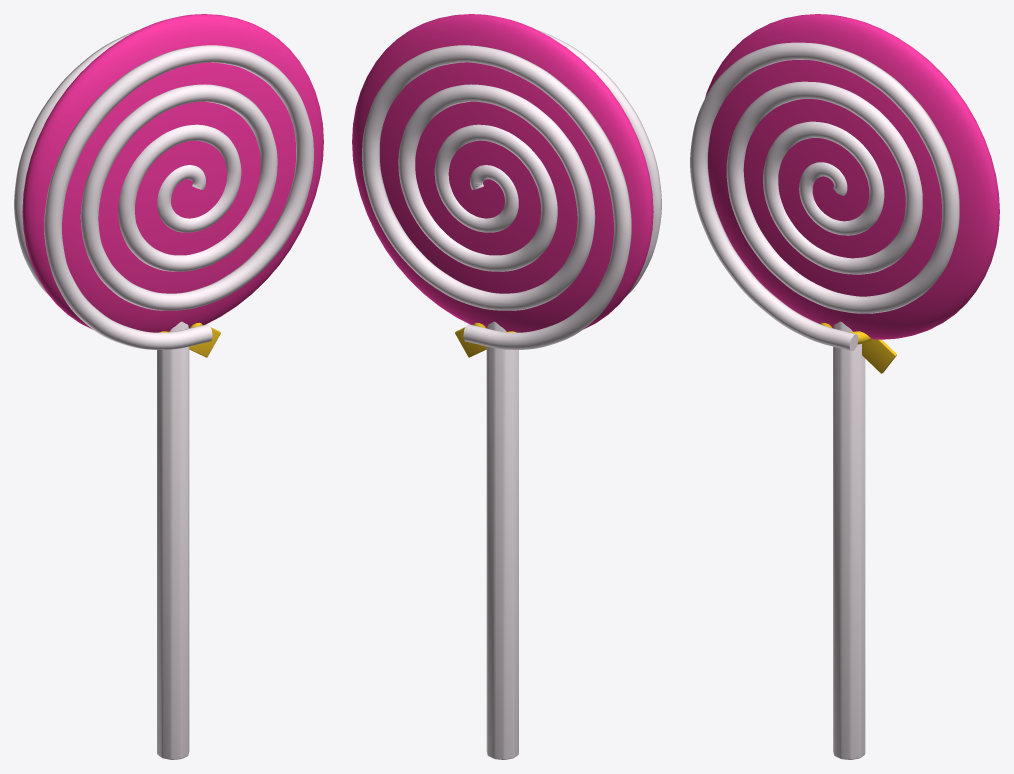
File: lolipop.glb
The picture shows the model from 3 angles, left to right: view 1: azimuth 30°, elevation 25°; view 2: azimuth 150°, elevation 25°; view 3: azimuth 330°, elevation 25°; orthographic projection.
Parts seen in each view (by area): view 1: Sphere, tube, Cylinder, tube.001; view 2: Sphere, tube.001, Cylinder, tube; view 3: Sphere, tube, Cylinder, Cube.
Boxes of the visible parts, bbox=[...] form: Sphere: bbox=[22, 14, 323, 332]; tube: bbox=[44, 45, 313, 349]; Cylinder: bbox=[157, 321, 189, 759]; tube.001: bbox=[14, 30, 137, 297]; Sphere: bbox=[352, 14, 653, 332]; tube.001: bbox=[362, 45, 631, 349]; Cylinder: bbox=[486, 321, 518, 759]; tube: bbox=[538, 30, 661, 297]; Sphere: bbox=[705, 14, 999, 339]; tube: bbox=[690, 42, 959, 350]; Cylinder: bbox=[833, 321, 865, 759]; Cube: bbox=[862, 339, 896, 373].
Size of the model in its own units: 4.13 by 9.69 by 0.94.
